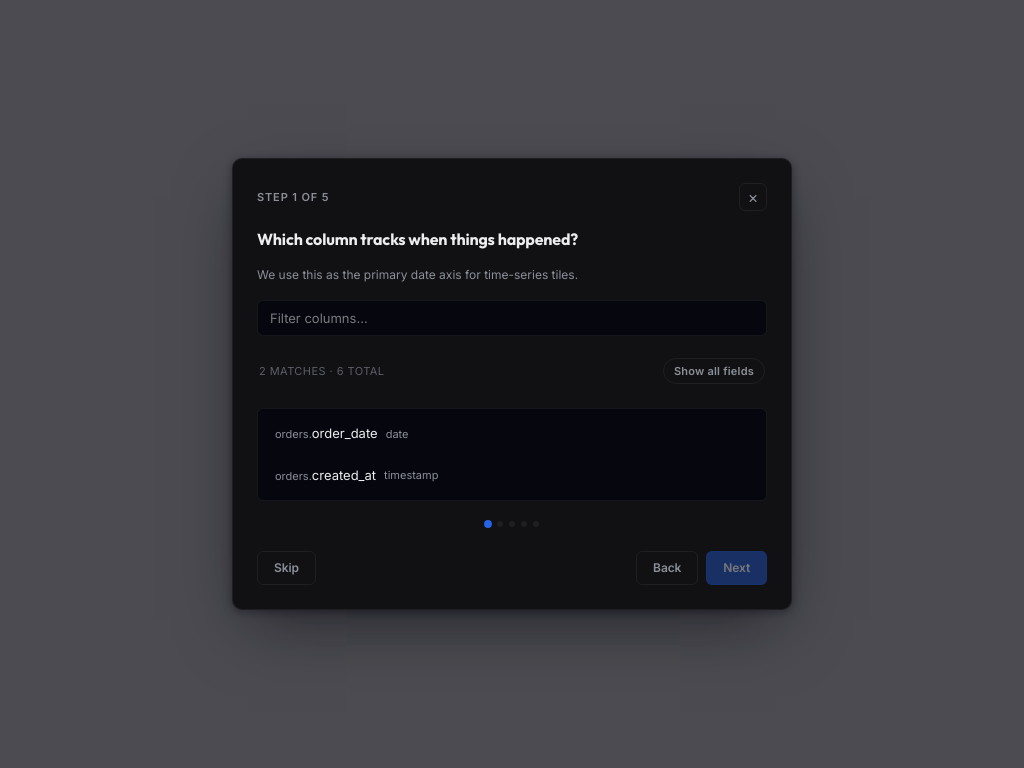
SemanticTagWizard › Next advances step and Back returns
# Pick a temporal column + click Next.
What coordinates should you click on to do the following:
click the option with test id "semantic-wizard-option-orders.order_date"
I would click on:
 (342, 434)
Its box is [264,415,420,453].
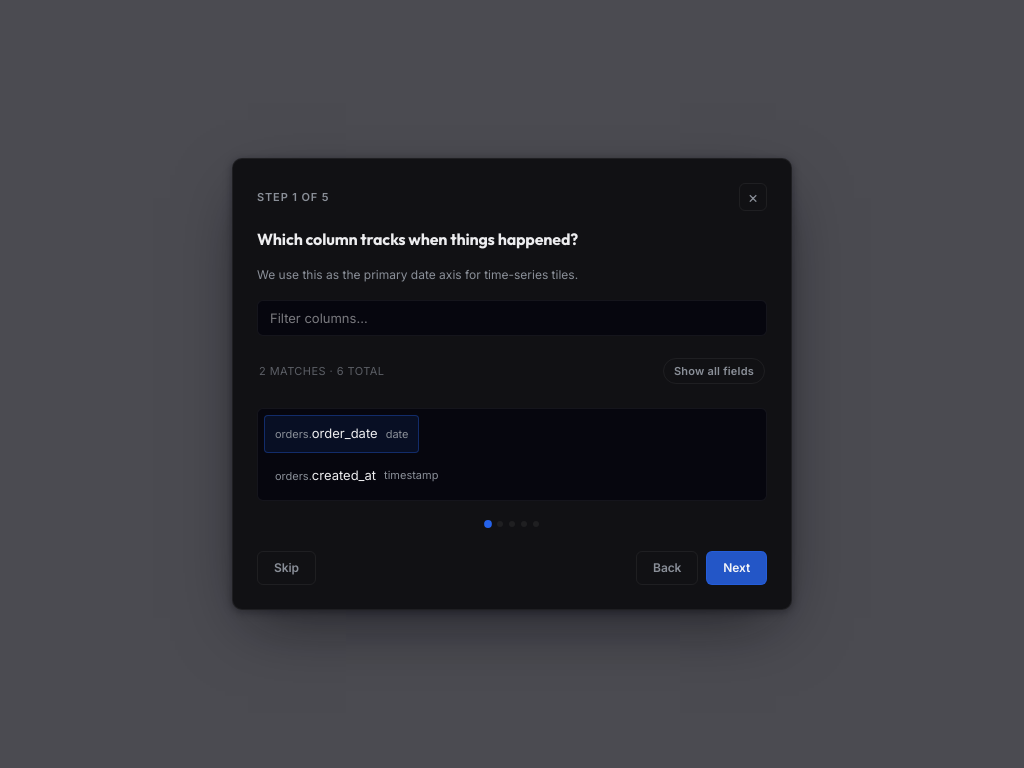
What coordinates should you click on to do the following:
click the button with test id "semantic-wizard-next"
I would click on:
 (737, 568)
Its box is [706,551,767,585].
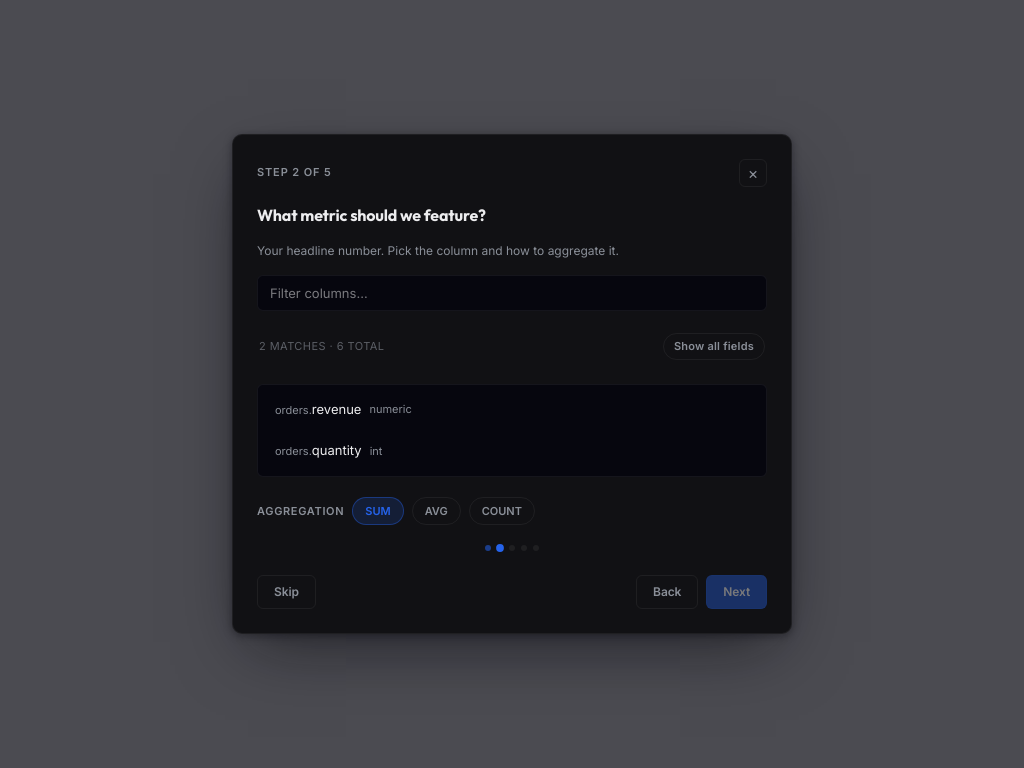
Now the option with test id "semantic-wizard-option-orders.revenue" is shown, box [264,391,423,428]
# Back returns to step 1.
What coordinates should you click on to do the following:
click the button with test id "semantic-wizard-back"
I would click on:
 (667, 592)
Its box is [636,575,698,609].
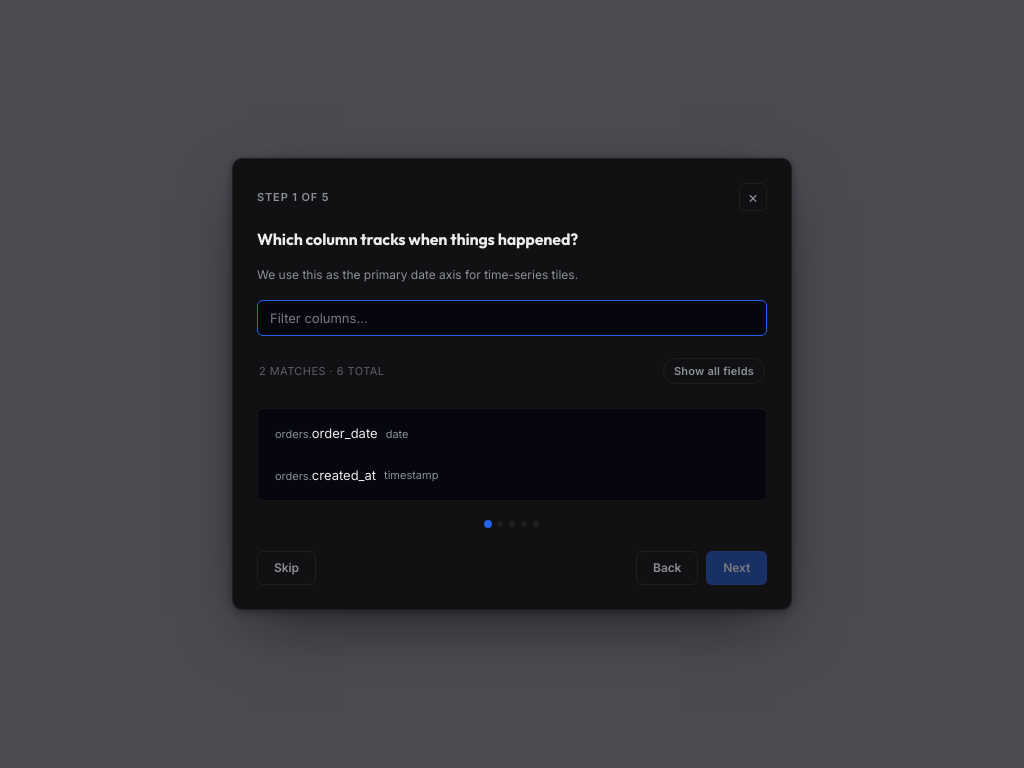
Now the option with test id "semantic-wizard-option-orders.order_date" is shown, box [264,415,420,453]
